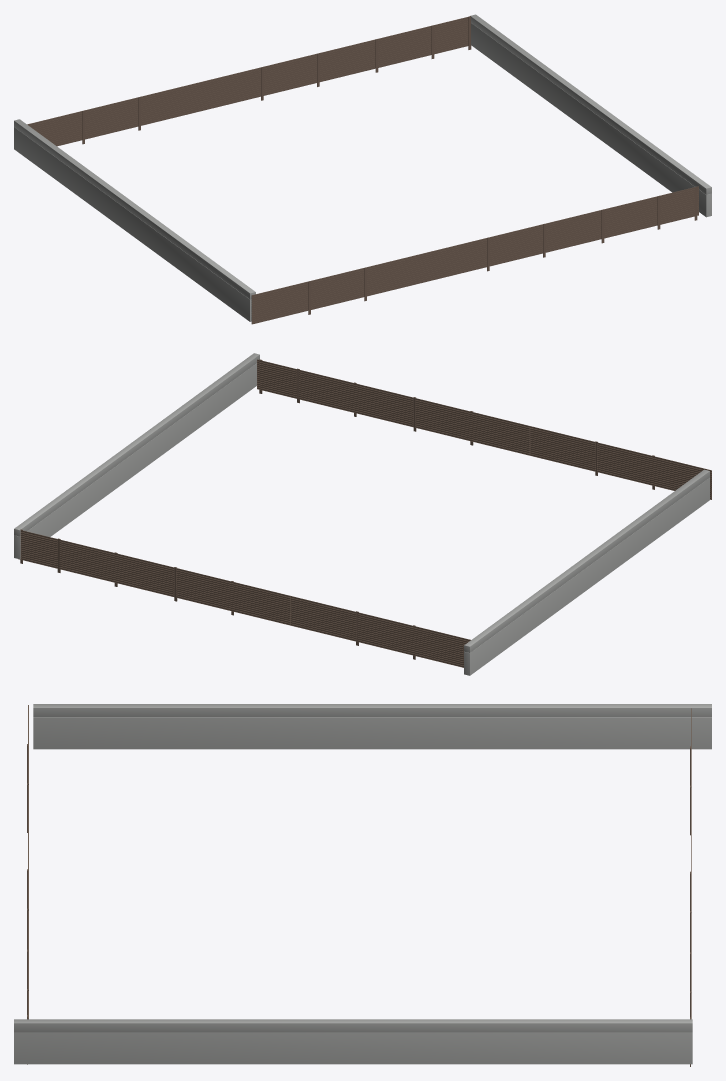
File: fence.obj
The picture shows the model from 3 angles, top to bottom: view 1: azimuth 30°, elevation 25°; view 2: azimuth 150°, elevation 25°; view 3: azimuth 270°, elevation 25°; orthographic projection. The views are drawn at different scales.
Visible parts, largest first — view 1: Mesh86 mesh_230_1 Perimeter_wall G_1Fence_Ground_fbx1 Model, Mesh84 mesh_230_1 Perimeter_wall G_1Fence_Ground_fbx1 Model, Mesh85 mesh_230_1 Perimeter_wall G_1Fence_Ground_fbx1 Model, Mesh83 mesh_230_1 Perimeter_wall G_1Fence_Ground_fbx1 Model; view 2: Mesh86 mesh_230_1 Perimeter_wall G_1Fence_Ground_fbx1 Model, Mesh84 mesh_230_1 Perimeter_wall G_1Fence_Ground_fbx1 Model, Mesh83 mesh_230_1 Perimeter_wall G_1Fence_Ground_fbx1 Model, Mesh85 mesh_230_1 Perimeter_wall G_1Fence_Ground_fbx1 Model; view 3: Mesh84 mesh_230_1 Perimeter_wall G_1Fence_Ground_fbx1 Model, Mesh86 mesh_230_1 Perimeter_wall G_1Fence_Ground_fbx1 Model, Mesh85 mesh_230_1 Perimeter_wall G_1Fence_Ground_fbx1 Model, Mesh83 mesh_230_1 Perimeter_wall G_1Fence_Ground_fbx1 Model.
Part boxes in pixels (box(x1,y1,x2,y2)): Mesh86 mesh_230_1 Perimeter_wall G_1Fence_Ground_fbx1 Model: box(14, 127, 251, 321); Mesh84 mesh_230_1 Perimeter_wall G_1Fence_Ground_fbx1 Model: box(471, 23, 711, 217); Mesh85 mesh_230_1 Perimeter_wall G_1Fence_Ground_fbx1 Model: box(470, 14, 711, 194); Mesh83 mesh_230_1 Perimeter_wall G_1Fence_Ground_fbx1 Model: box(14, 119, 255, 299); Mesh86 mesh_230_1 Perimeter_wall G_1Fence_Ground_fbx1 Model: box(464, 477, 709, 675); Mesh84 mesh_230_1 Perimeter_wall G_1Fence_Ground_fbx1 Model: box(14, 363, 256, 559); Mesh83 mesh_230_1 Perimeter_wall G_1Fence_Ground_fbx1 Model: box(464, 469, 709, 652); Mesh85 mesh_230_1 Perimeter_wall G_1Fence_Ground_fbx1 Model: box(14, 353, 259, 536); Mesh84 mesh_230_1 Perimeter_wall G_1Fence_Ground_fbx1 Model: box(14, 1032, 692, 1064); Mesh86 mesh_230_1 Perimeter_wall G_1Fence_Ground_fbx1 Model: box(33, 717, 711, 749); Mesh85 mesh_230_1 Perimeter_wall G_1Fence_Ground_fbx1 Model: box(14, 1019, 692, 1032); Mesh83 mesh_230_1 Perimeter_wall G_1Fence_Ground_fbx1 Model: box(33, 704, 711, 716).
Size of the model in its own units: 1766 by 126 by 1632.
